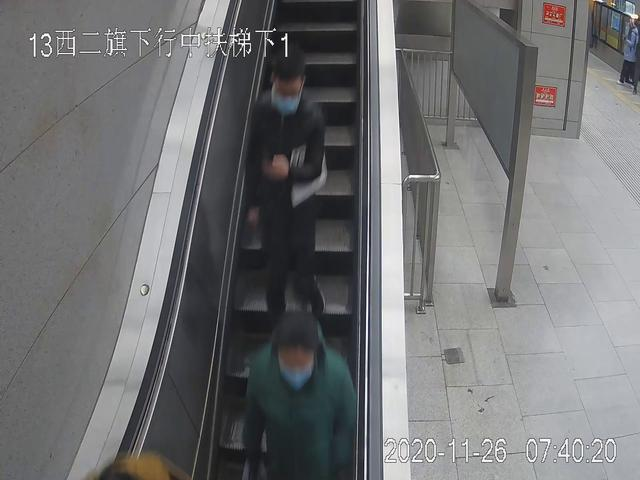person: (243, 54, 328, 316), (241, 316, 358, 480)
